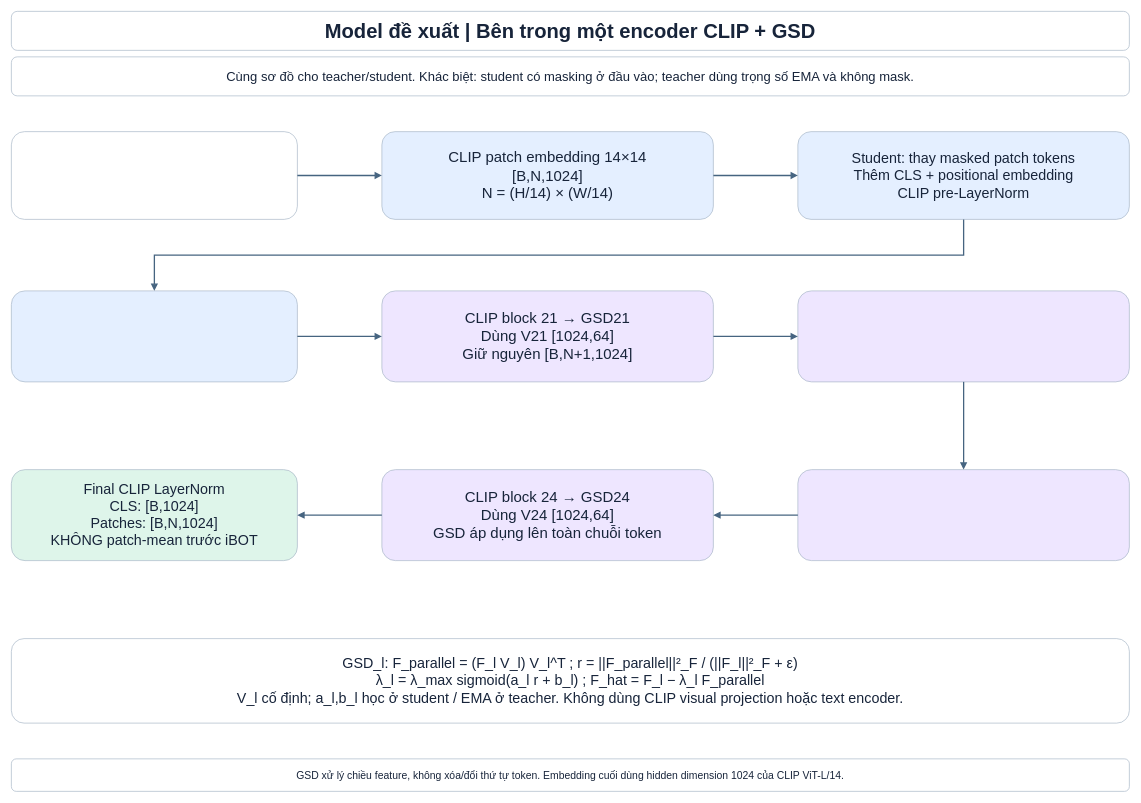
The diagram is 1141 pixels wide and 803 high, and some of its shapes have lost their labels. The shapes that lost their labels are listed below. From the top down, each one's box as (x1, y1, x2, y2) in pixels, then its label:
(11, 131, 297, 219): Crop RGB đã preprocessing [B,3,H,W] Teacher/student nhận ảnh tensor
(11, 290, 297, 382): CLIP Transformer blocks 1–20 Attention + FFN có sẵn trong CLIP [B,N+1,1024]
(797, 290, 1129, 382): CLIP block 22 → GSD22 Dùng V22 [1024,64] Giữ nguyên [B,N+1,1024]
(797, 469, 1129, 561): CLIP block 23 → GSD23 Dùng V23 [1024,64] CLS và patch positions vẫn giữ nguyên
